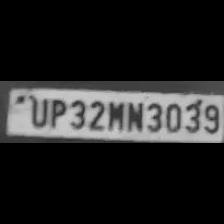0: (164, 100, 182, 132)
2: (86, 98, 104, 130)
3: (66, 97, 86, 129), (182, 99, 200, 133), (145, 100, 163, 132)
9: (202, 100, 220, 134)
M: (105, 99, 123, 131)
N: (124, 98, 142, 132)
P: (46, 96, 66, 128)
U: (26, 96, 48, 128)
